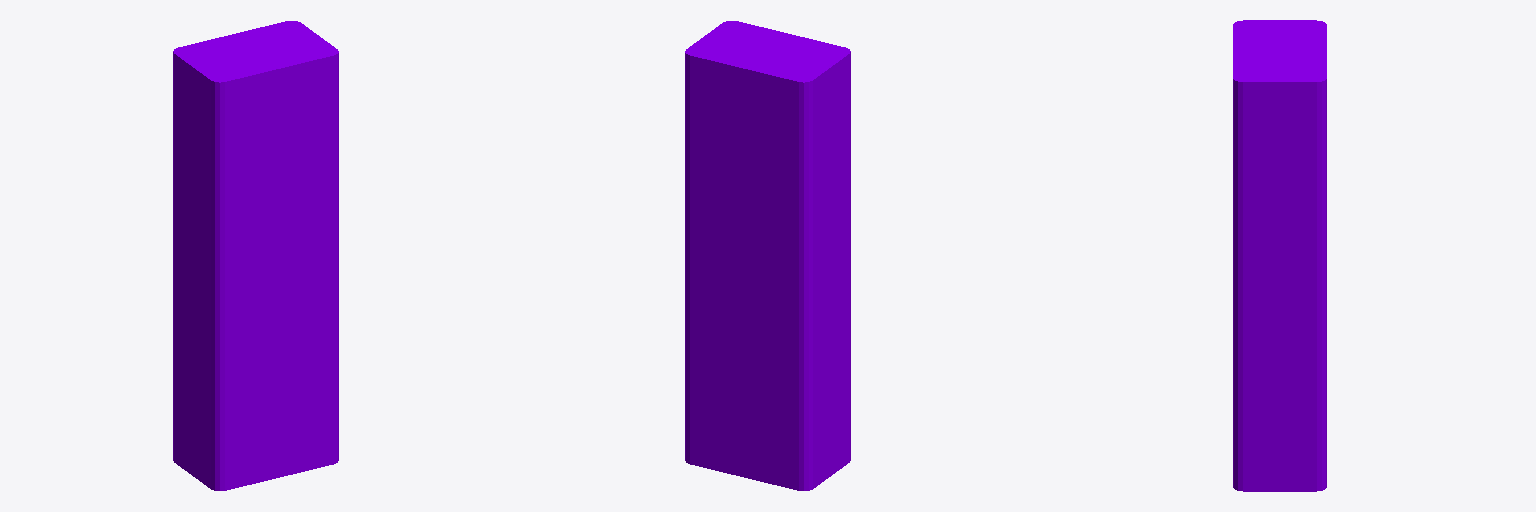
URDF robot description (Small_Short_Rectangle_Purple):
<?xml version="1.0"?>
<robot name="Small_Short_Rectangle_Purple">
    <link name="Small_Short_Rectangle_Purple">
        <visual>
            <geometry>
                <mesh filename="../mesh/factory_insertion/Small_Short_Rectangle_Purple.obj" scale="0.001 0.001 0.001"/>
            </geometry>
            <material name="Purple">
              <color rgba="0.6 0.0 1.0 0.0"/>
            </material>
        </visual>
        <collision>
            <geometry>
                <mesh filename="../mesh/factory_insertion/Small_Short_Rectangle_Purple.obj" scale="0.001 0.001 0.001"/>
            </geometry>
            <sdf resolution="512"/>
        </collision>
    </link>
</robot>

--- Render facts (derived) ---
Views: 3 orthographic renders of the robot side by side, from view 1: azimuth 30°, elevation 25°; view 2: azimuth 150°, elevation 25°; view 3: azimuth 270°, elevation 25°.
Model Small_Short_Rectangle_Purple with 1 links and 0 joints (none), rooted at Small_Short_Rectangle_Purple, posed every joint at zero.
Visible links, largest first — view 1: Small_Short_Rectangle_Purple; view 2: Small_Short_Rectangle_Purple; view 3: Small_Short_Rectangle_Purple.
Boxes of the visible links, left/top/right/bottom form: Small_Short_Rectangle_Purple: left=173, top=21, right=338, bottom=490; Small_Short_Rectangle_Purple: left=685, top=21, right=850, bottom=490; Small_Short_Rectangle_Purple: left=1233, top=20, right=1326, bottom=491.
Size in the robot's own frame: 0.0324 by 0.0208 by 0.1 metres.
Meshes: 1 distinct files referenced, 1 mesh visuals loaded (1 OBJ).
